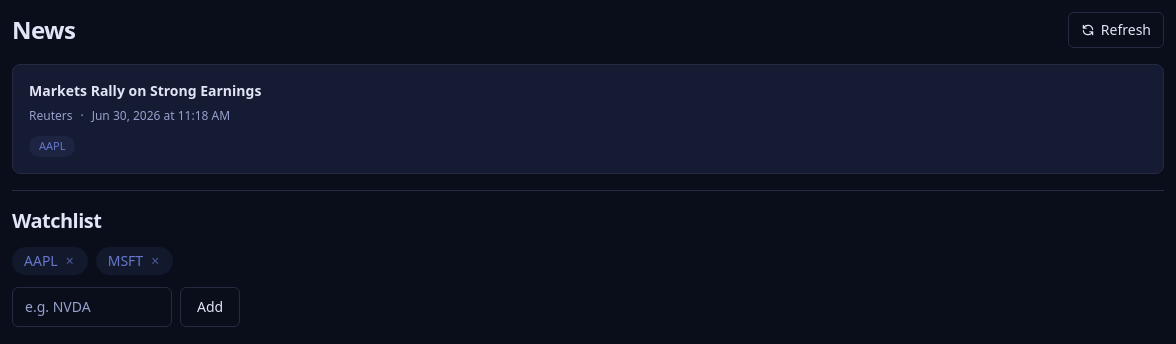
it: News tab › refresh button is disabled while a refresh is in progress
Click the button with aria-label "refresh news" at [1116, 30], box top-left (1068, 12), bottom-right (1164, 48)
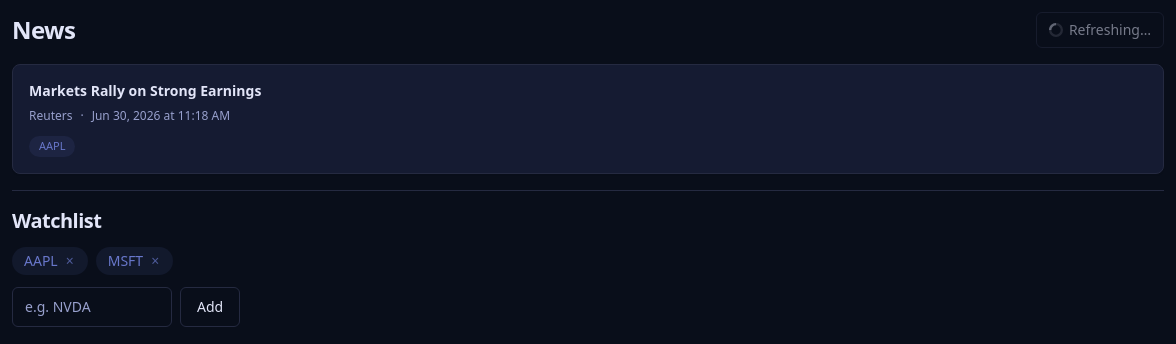
Now the button with aria-label "refresh news" is disabled, box top-left (1036, 12), bottom-right (1164, 48)
